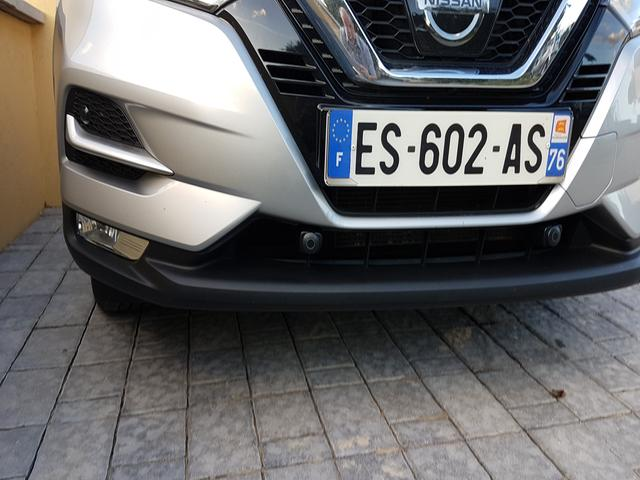Quashqai: (284, 64, 607, 212)
